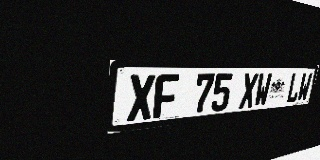5: (211, 74, 233, 112)
7: (192, 74, 215, 114)
F: (153, 74, 179, 119)
L: (286, 73, 302, 103)
W: (253, 73, 272, 107), (296, 73, 313, 102)
X: (127, 74, 155, 122), (239, 73, 259, 109)
